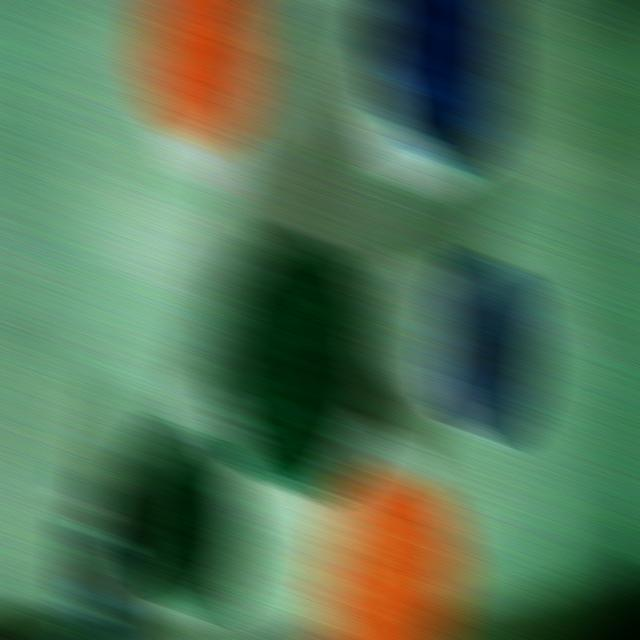blue: (436, 256, 539, 439)
green: (211, 228, 384, 499), (122, 421, 251, 618)
yellow: (312, 465, 465, 639), (137, 0, 262, 151)
